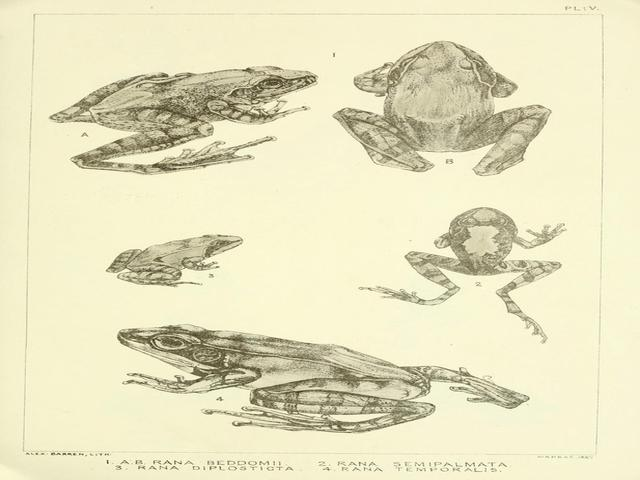frog: (79, 304, 589, 437), (30, 21, 327, 178), (341, 29, 616, 178), (387, 191, 581, 348), (98, 216, 252, 295)
